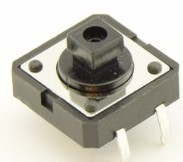Button: (8, 10, 181, 158)
